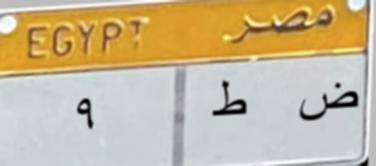9: (70, 91, 97, 134)
Taa: (208, 76, 249, 127)
daad: (292, 82, 360, 128)
